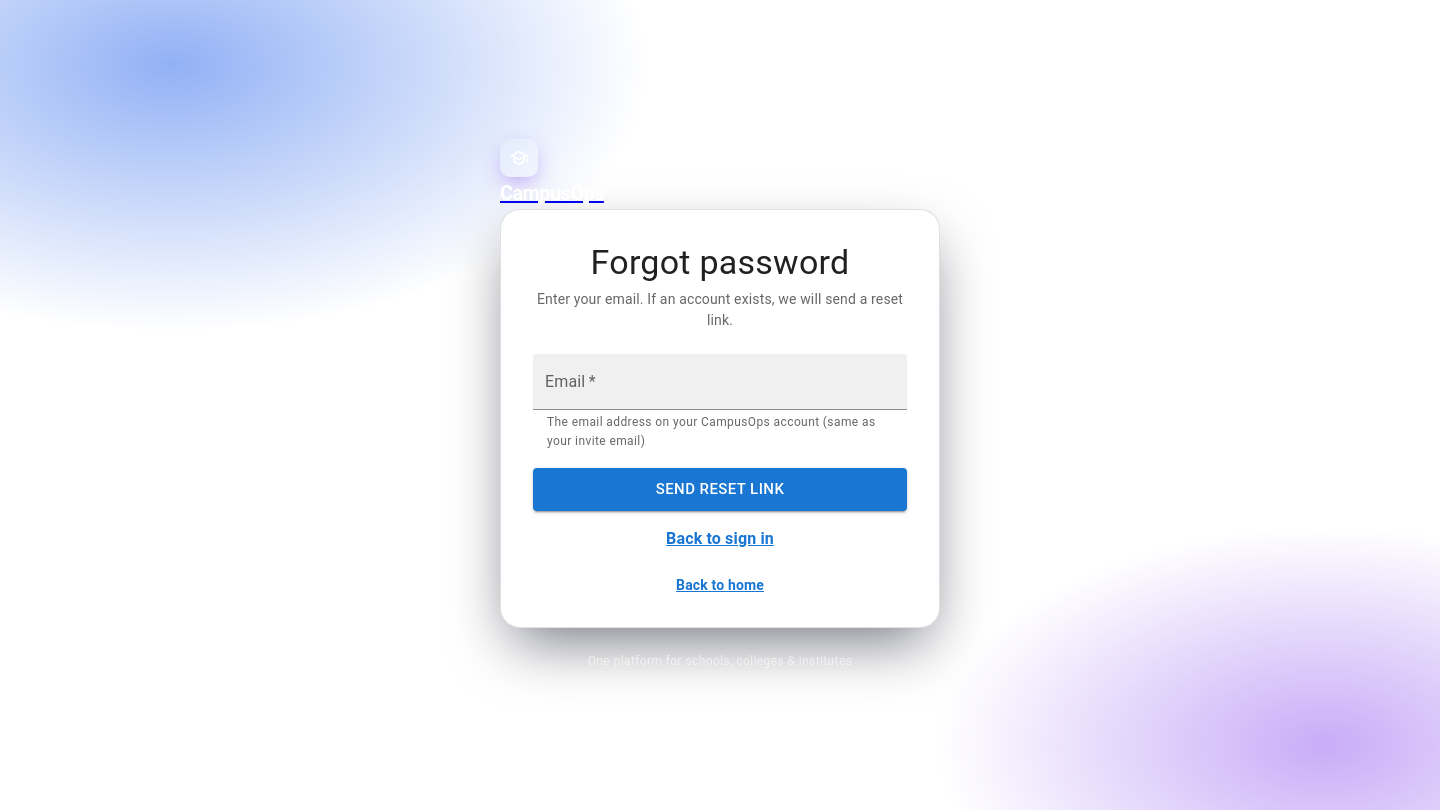
ForgotPasswordPage › shows generic success state after submit
Type "admin@school.example" into the field labelled "Email *" at (720, 382), box [533,354,907,410]
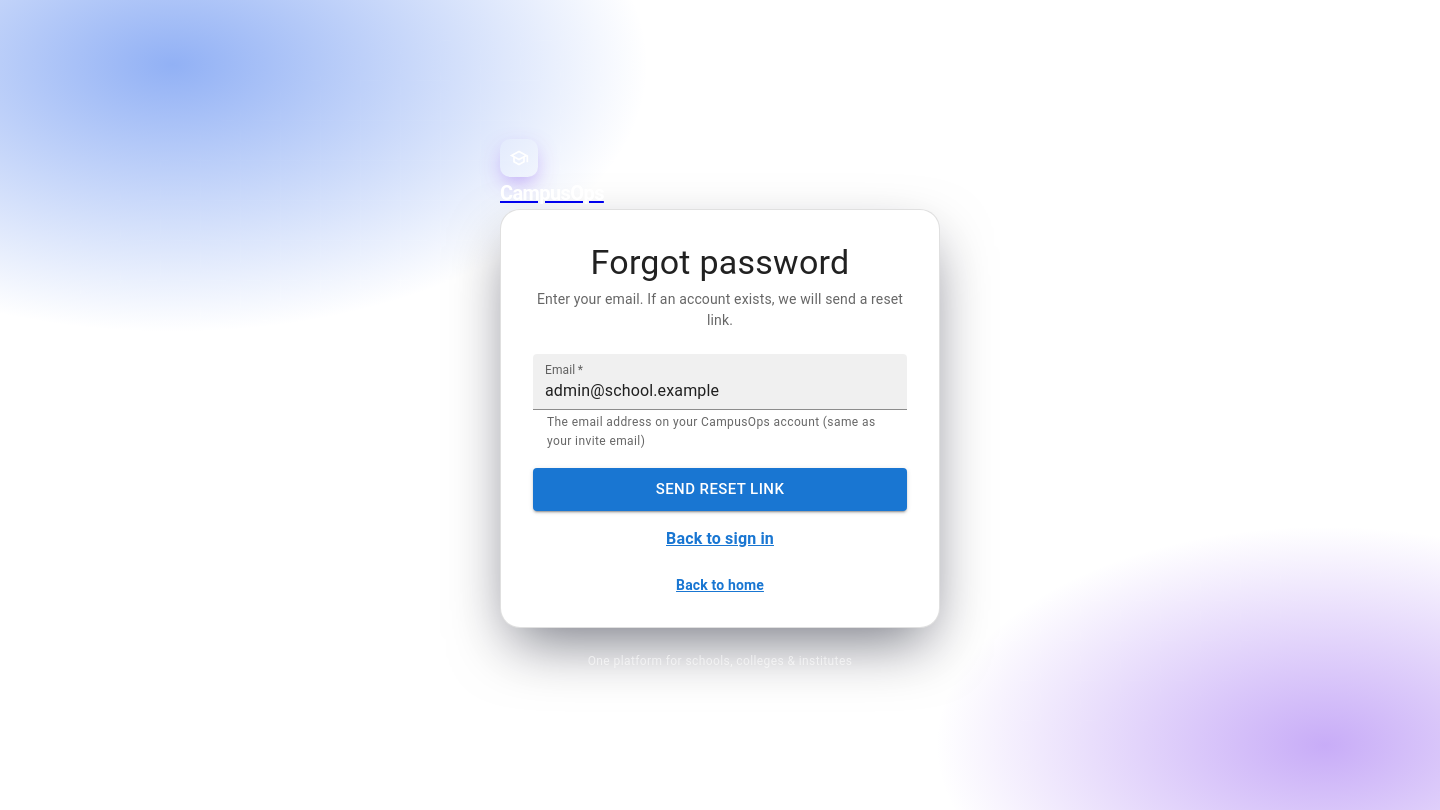
Click the button "Send reset link" at (720, 489), box [533,468,907,511]
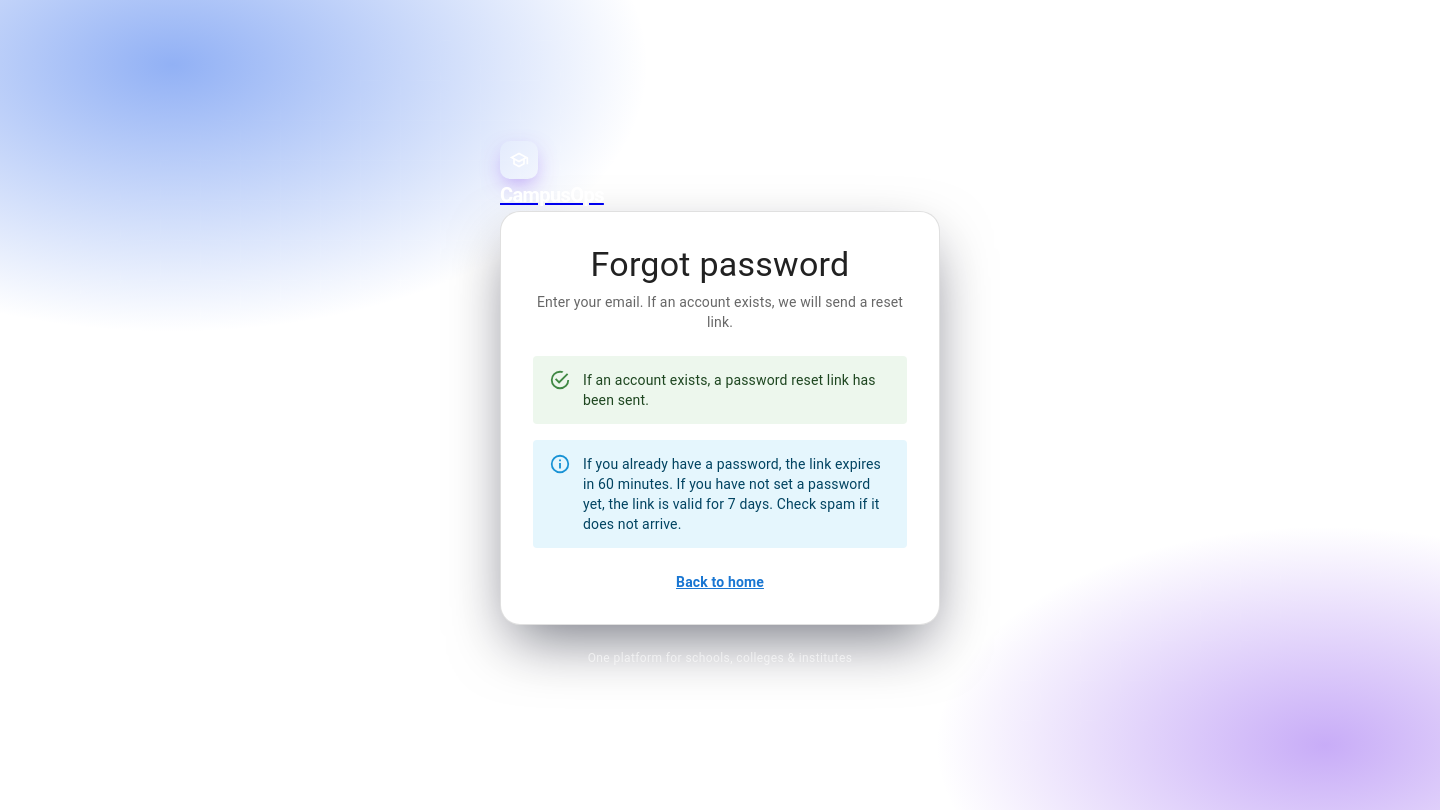
Expected: the text "If an account exists, a password reset link has been sent." is shown, [583,362,891,418]
